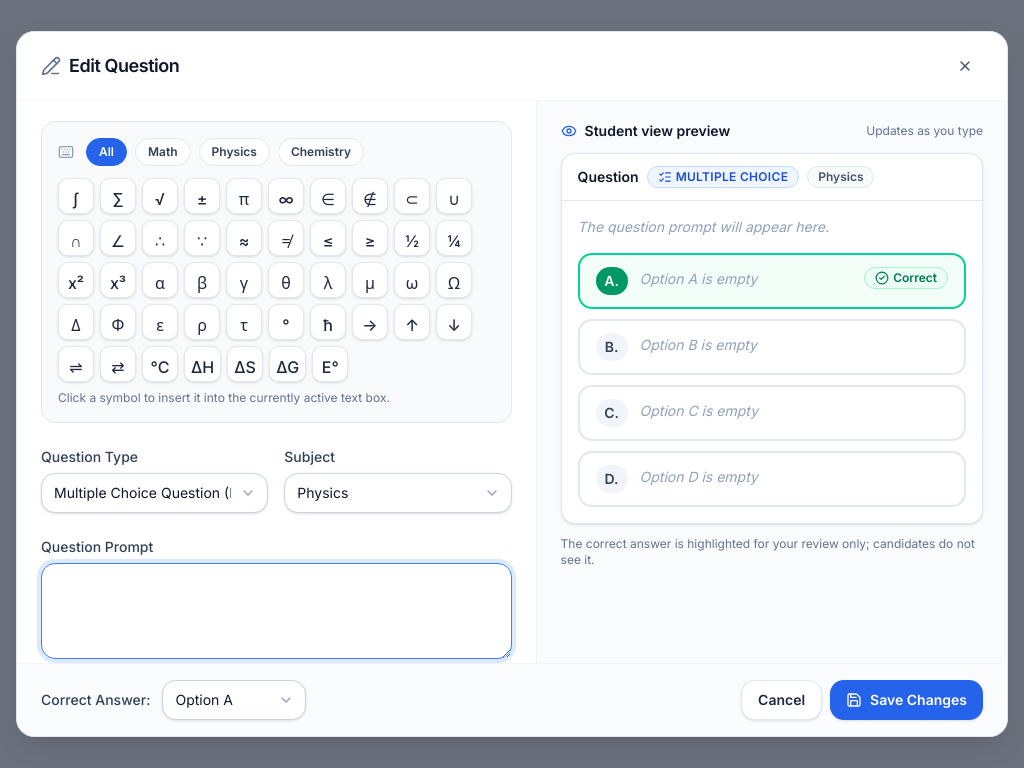
Scenario: QuestionEditor new question types › fills the Assertion–Reason template on a blank question
The image size is (1024, 768).
Step 1. Select "Assertion–Reason" in the dropdown labelled "Question Type" → point(155, 493), box [41,473,268,513]
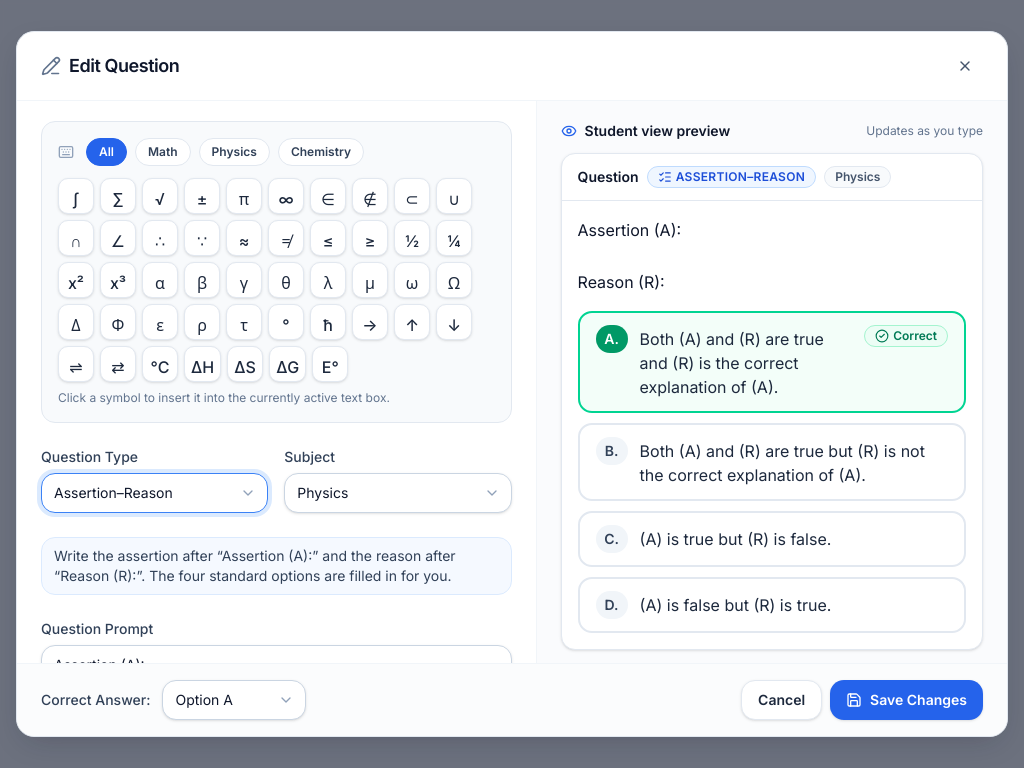
Result: the text "ASSERTION–REASON" is shown at [647,166,816,188]
